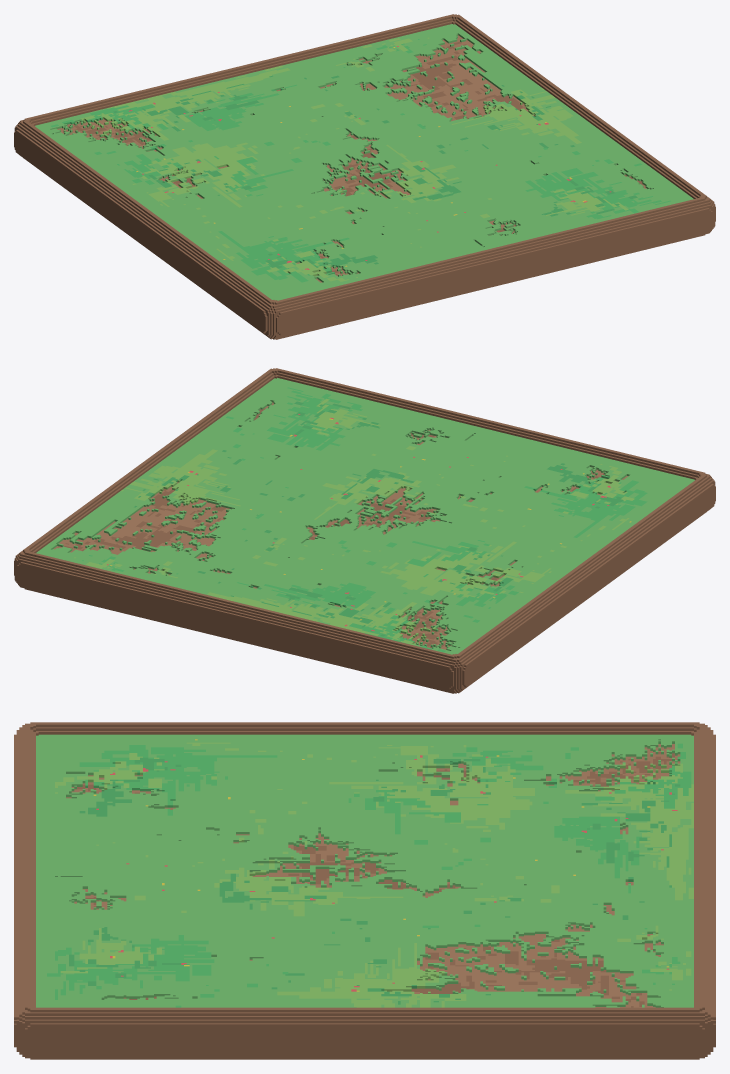
File: Cubeland-31.obj
3 views of the same model, one above another, from view 1: azimuth 30°, elevation 25°; view 2: azimuth 150°, elevation 25°; view 3: azimuth 270°, elevation 25° (orthographic). The views are drawn at different scales.
Size of the model in its own units: 25.6 by 2 by 25.6.
Materials: 1 (1 with a texture image).
